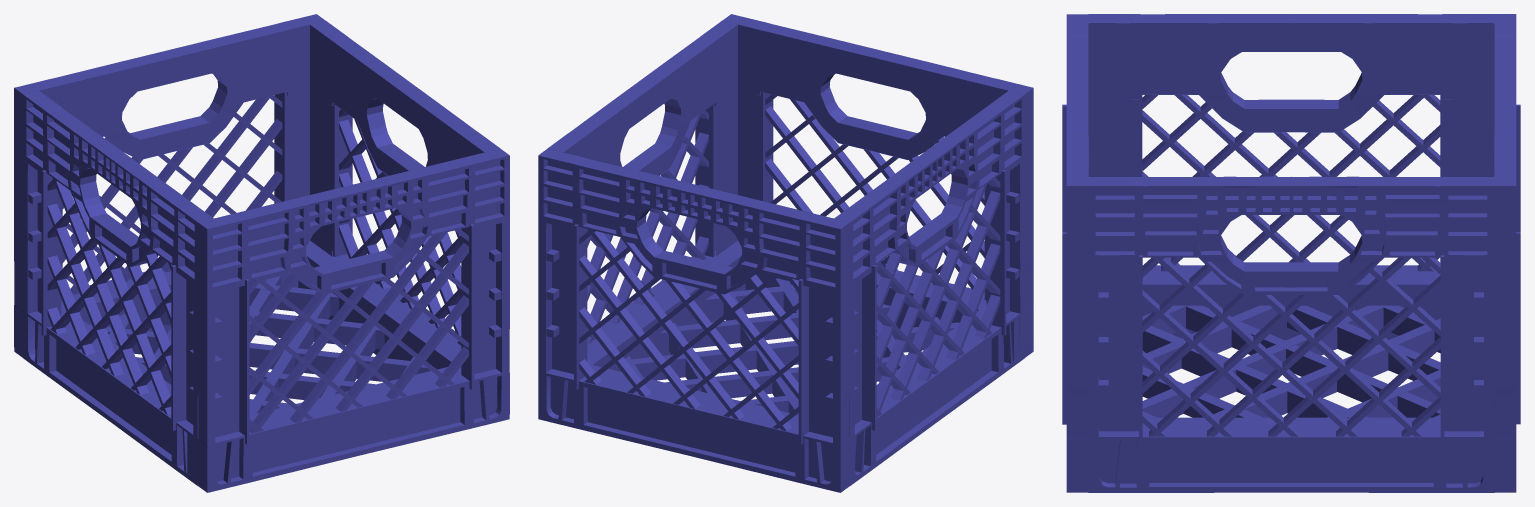
Rendered from Milk_Crate.fbx.
The picture shows the model from 3 angles, left to right: view 1: azimuth 30°, elevation 25°; view 2: azimuth 150°, elevation 25°; view 3: azimuth 270°, elevation 25°; orthographic projection. The views are drawn at different scales.
Visible parts, largest first — view 1: milk_crate; view 2: milk_crate; view 3: milk_crate.
Boxes of the visible parts, x1,y1,x2,y2 form: milk_crate: (14, 14, 509, 492); milk_crate: (538, 14, 1033, 492); milk_crate: (1062, 14, 1520, 492).
Bounding box in the file's own units: 17.15 × 13.98 × 18.92.
